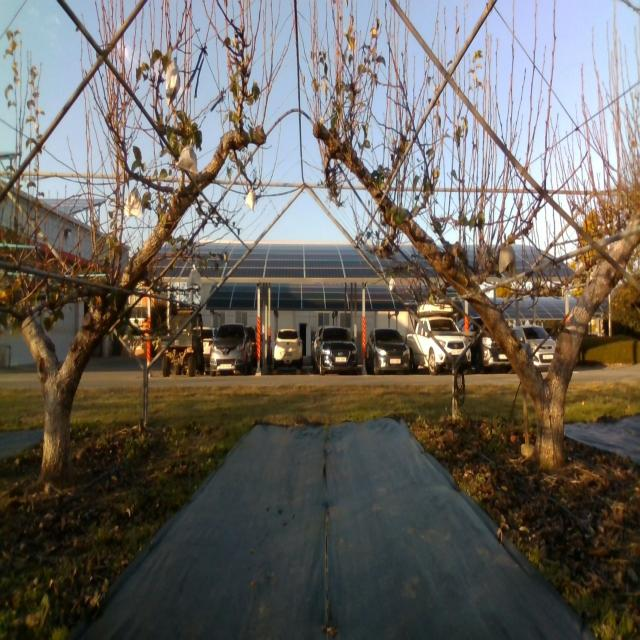pearbags: (176, 144, 198, 175), (166, 61, 180, 107), (499, 245, 517, 280), (126, 187, 142, 219), (187, 270, 202, 288), (245, 189, 255, 211)
